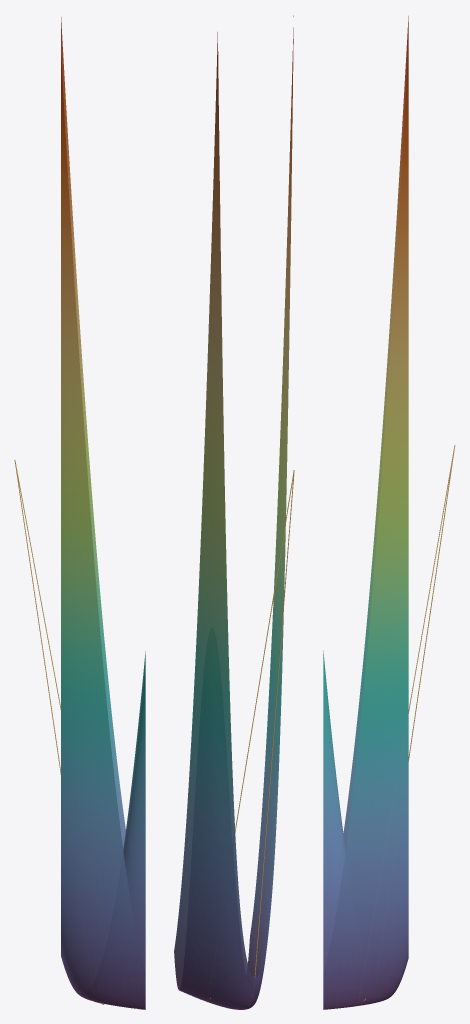
File: my_rosenbrock (2).glb
3 views of the same model, side by side, from view 1: azimuth 90°, elevation 25°; view 2: azimuth 210°, elevation 25°; view 3: azimuth 270°, elevation 25° (orthographic). The views are drawn at different scales.
Bounding box in the file's own units: 4 × 50.24 × 6.21.
